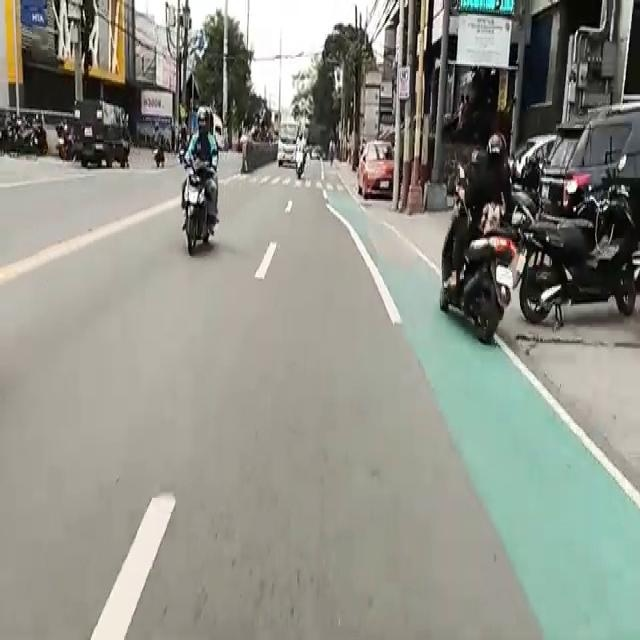car: (67, 100, 131, 175), (353, 136, 399, 202)
motorcycle: (523, 190, 637, 319), (436, 150, 512, 330), (186, 115, 216, 249), (150, 114, 167, 173), (292, 130, 306, 184)
